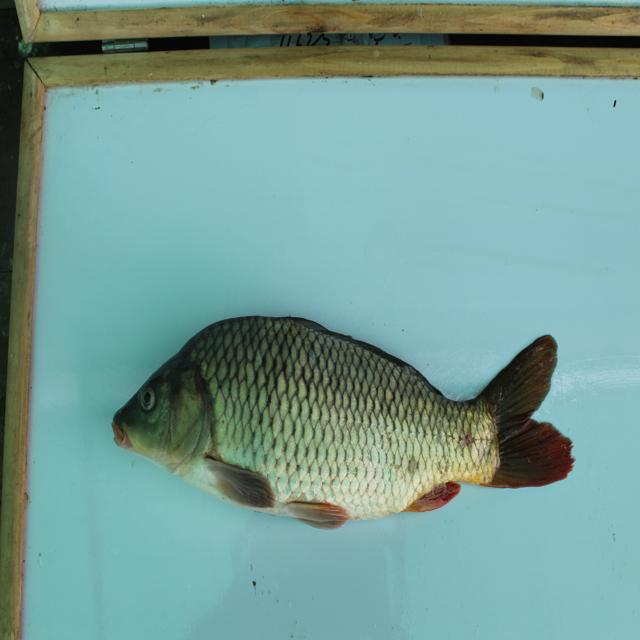CommonCarp: (113, 310, 590, 529)
